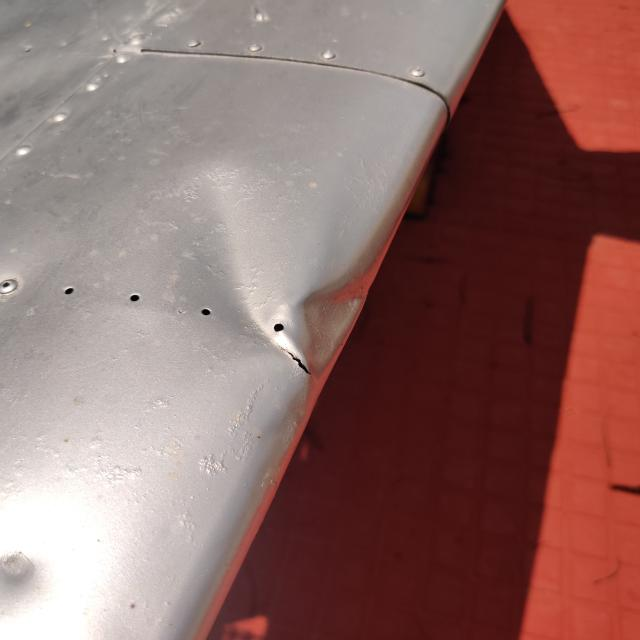crack: (258, 335, 329, 390)
dent: (169, 164, 420, 386), (0, 523, 62, 614)
